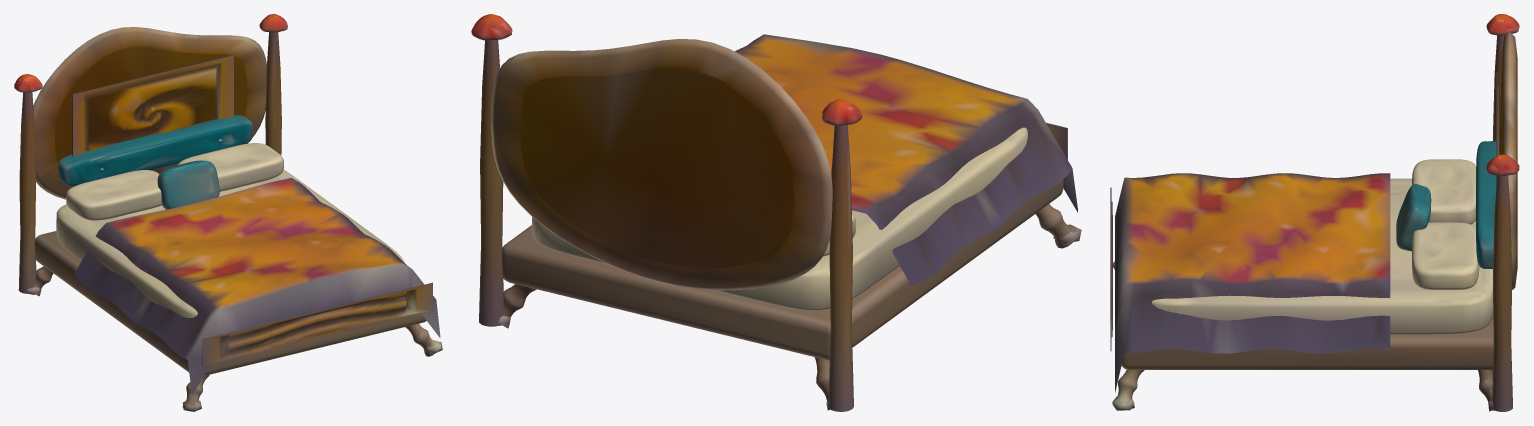
Rendered from gaudi_yatak.glb.
3 renders of one model, left to right at view 1: azimuth 30°, elevation 25°; view 2: azimuth 150°, elevation 25°; view 3: azimuth 270°, elevation 25°, orthographic. The views are drawn at different scales.
Parts seen in each view (by area): view 1: gaudi_yatak_LOD0; view 2: gaudi_yatak_LOD0; view 3: gaudi_yatak_LOD0.
Part boxes in pixels (x1,y1,x2,y2): gaudi_yatak_LOD0: (14, 14, 442, 411); gaudi_yatak_LOD0: (471, 14, 1081, 411); gaudi_yatak_LOD0: (1110, 14, 1519, 411).
Size of what is drawn, in the model's own units: 2.05 by 1.76 by 2.3.
